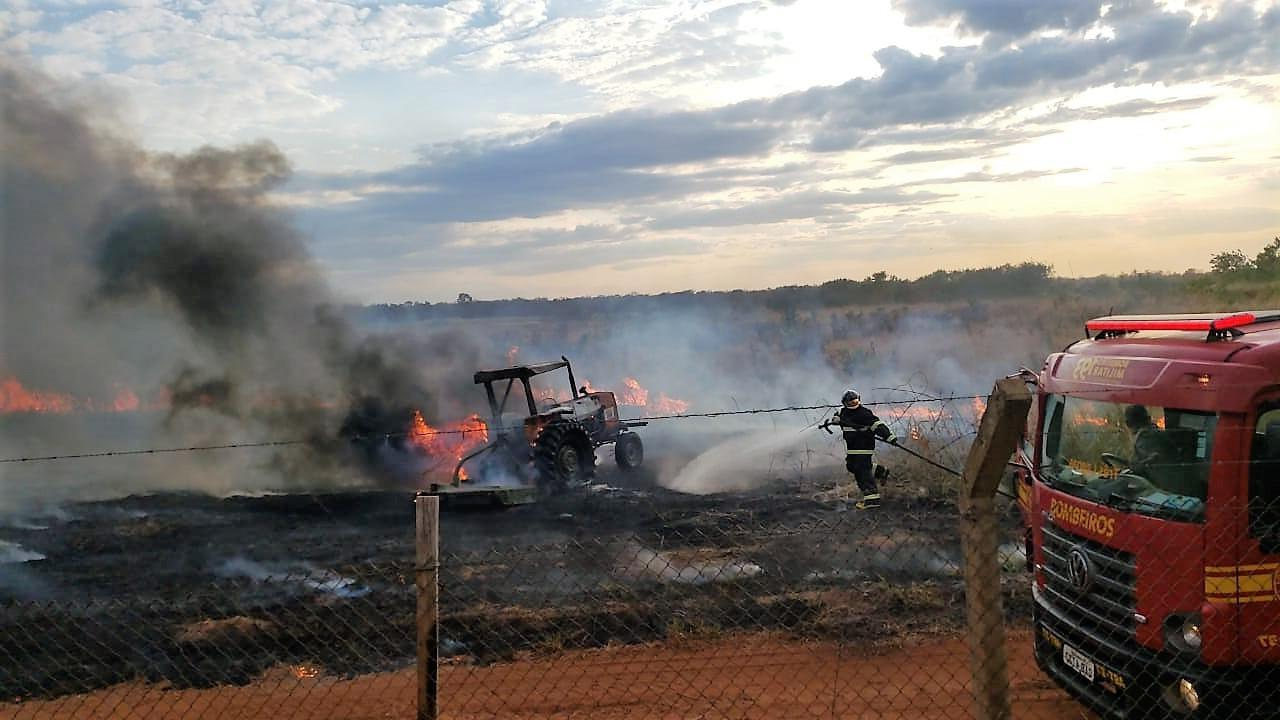Fire: (9, 376, 169, 414), (583, 368, 696, 420), (418, 414, 485, 480), (892, 395, 989, 438)
